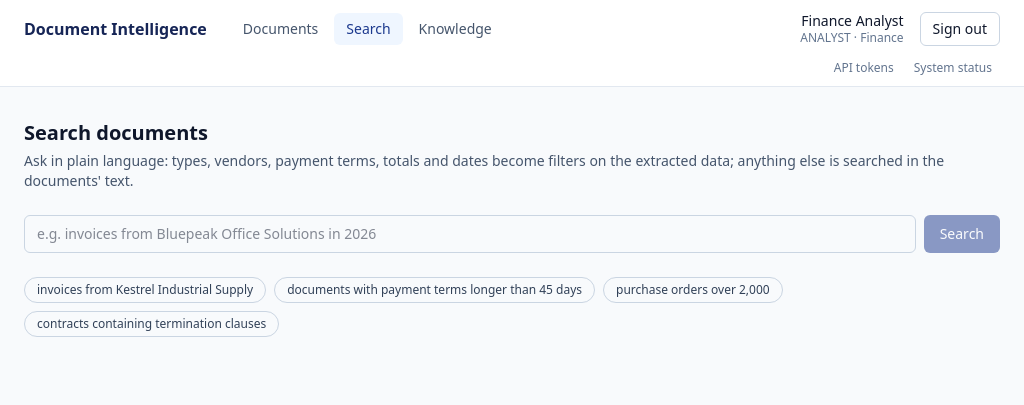
Scenario: document search › shows API errors
Type "invoices" into the field named "Search".
click(470, 234); type("invoices")  # box [24,215,916,253]
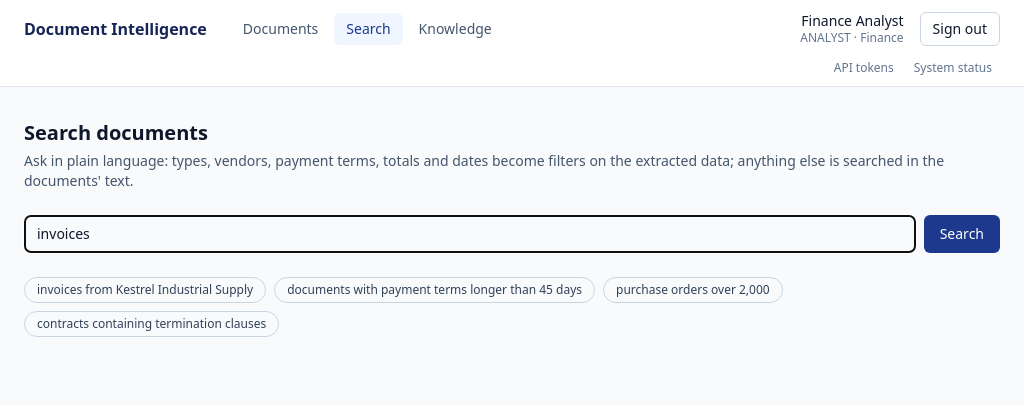
Click the button "Search".
click(962, 234)  # box [924,215,1000,253]
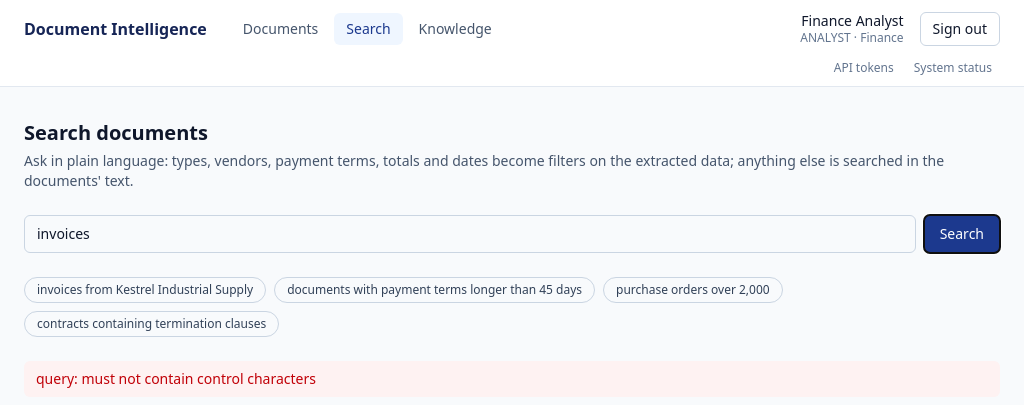
Now the message shows "must not contain control characters", box [36,369,316,388]
